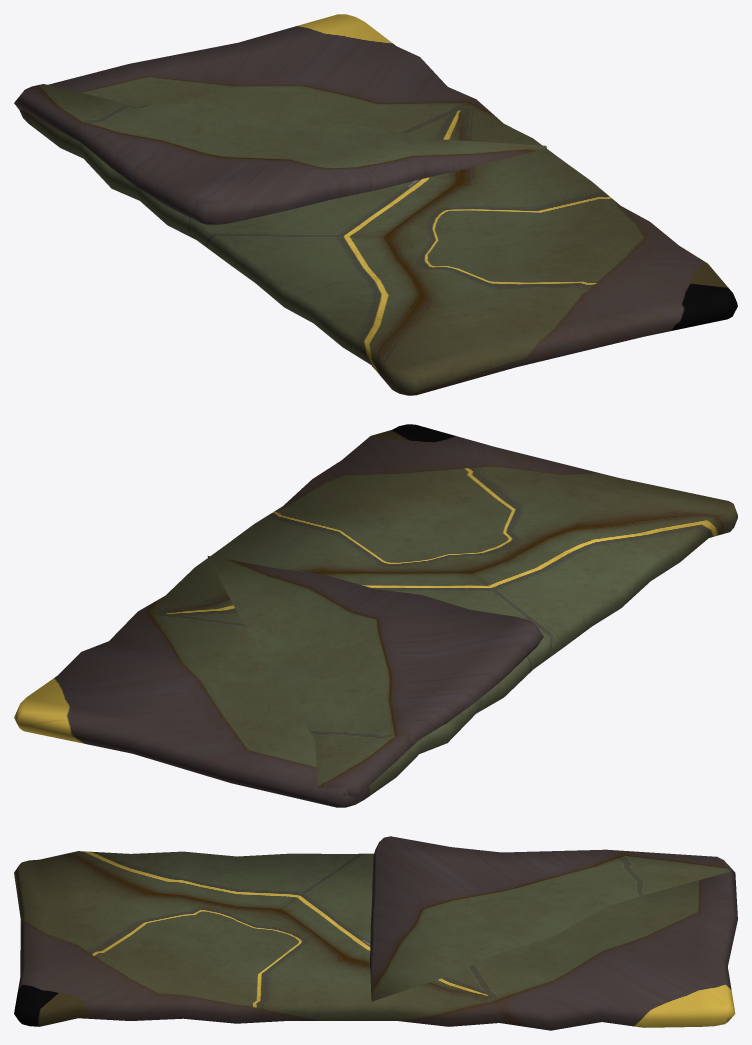
Rendered from SleepingBag.fbx.
3 renders of one model, top to bottom at view 1: azimuth 30°, elevation 25°; view 2: azimuth 150°, elevation 25°; view 3: azimuth 270°, elevation 25°, orthographic. The views are drawn at different scales.
Visible parts, largest first — view 1: SleepingBag; view 2: SleepingBag; view 3: SleepingBag.
Part boxes in pixels (x1,y1,x2,y2): SleepingBag: (14, 14, 737, 395); SleepingBag: (14, 424, 737, 807); SleepingBag: (14, 836, 737, 1030).
Bounding box in the file's own units: 239 × 33.29 × 477.
